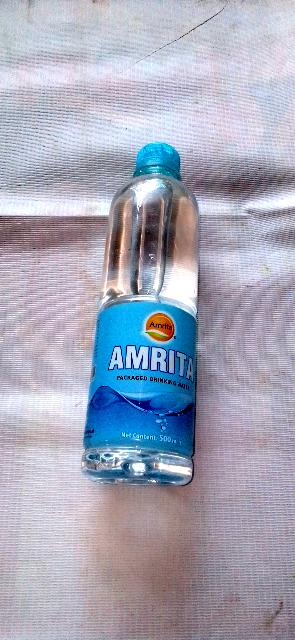bottle: (95, 134, 209, 486)
